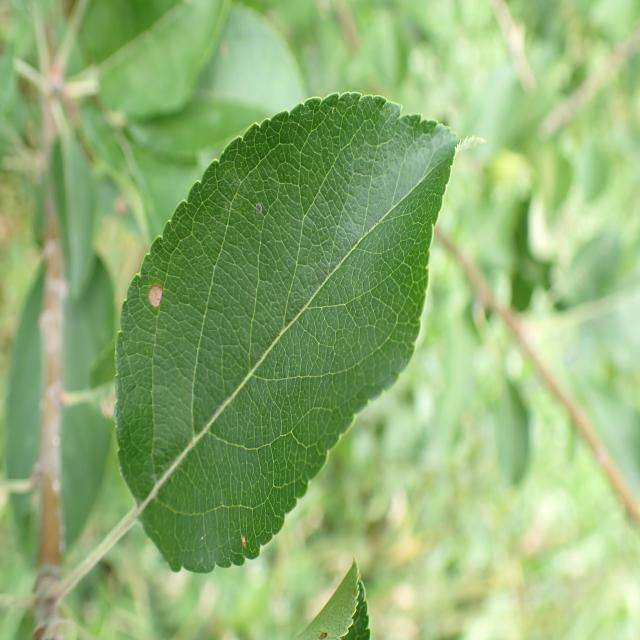Black Rot: (129, 265, 173, 330)
